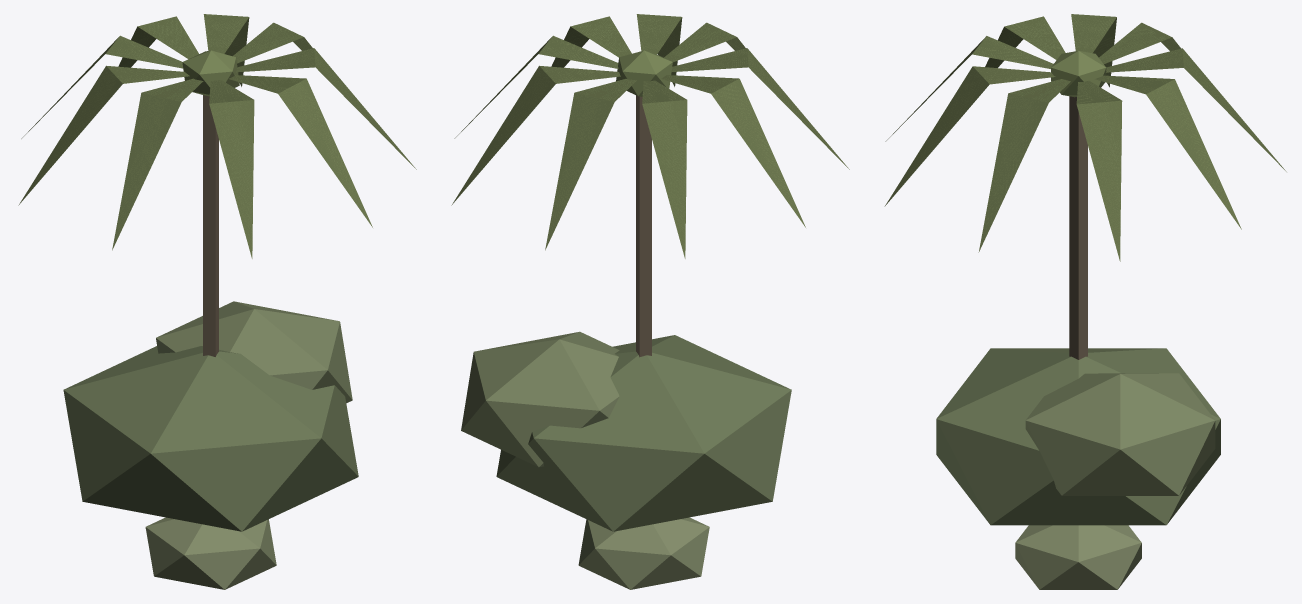
The model's file is vegetacao.glb.
3 renders of one model, left to right at view 1: azimuth 30°, elevation 25°; view 2: azimuth 150°, elevation 25°; view 3: azimuth 270°, elevation 25°, orthographic.
Parts seen in each view (by area): view 1: VEG_cajueiro, VEG_coqueiro, VEG_arbusto; view 2: VEG_cajueiro, VEG_coqueiro, VEG_arbusto; view 3: VEG_cajueiro, VEG_coqueiro, VEG_arbusto.
Part boxes in pixels (x1=…): VEG_cajueiro: x1=63, y1=301, x2=358, y2=531; VEG_coqueiro: x1=18, y1=14, x2=416, y2=356; VEG_arbusto: x1=145, y1=517, x2=276, y2=589; VEG_cajueiro: x1=461, y1=331, x2=791, y2=531; VEG_coqueiro: x1=451, y1=14, x2=849, y2=357; VEG_arbusto: x1=578, y1=517, x2=709, y2=589; VEG_cajueiro: x1=936, y1=348, x2=1220, y2=525; VEG_coqueiro: x1=884, y1=14, x2=1286, y2=359; VEG_arbusto: x1=1015, y1=525, x2=1141, y2=589.
Bounding box in the file's own units: 8.86 × 12.74 × 8.76.
